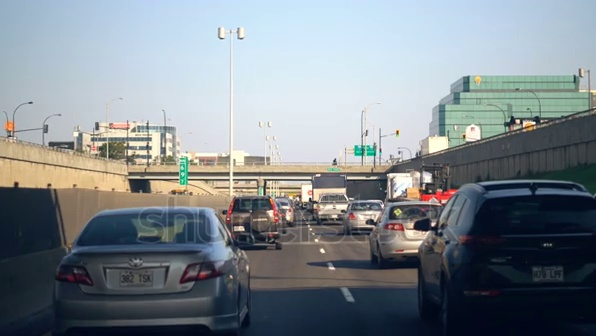licenseplate: (122, 266, 167, 282), (532, 261, 569, 279)
